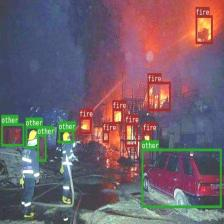fire: (147, 81, 170, 111), (196, 15, 212, 43), (125, 123, 137, 146), (79, 116, 91, 134), (112, 108, 123, 124), (142, 131, 150, 145), (102, 130, 109, 141)
